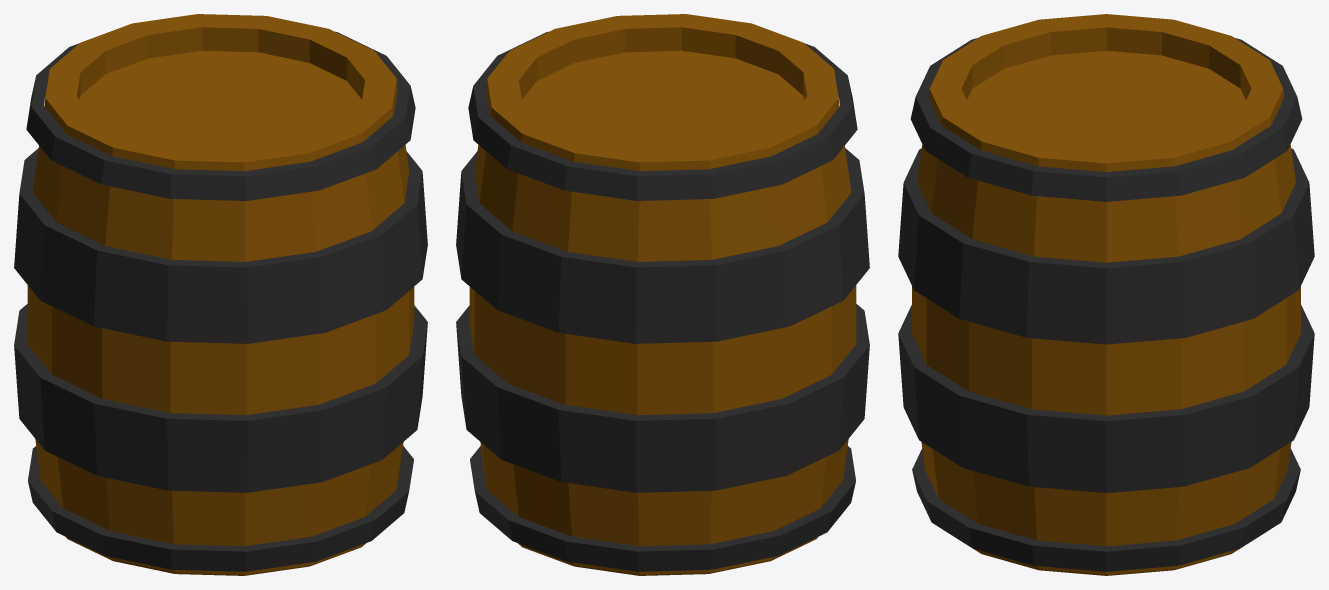
Rendered from barril.fbx.
The picture shows the model from 3 angles, left to right: view 1: azimuth 30°, elevation 25°; view 2: azimuth 150°, elevation 25°; view 3: azimuth 270°, elevation 25°; orthographic projection.
Parts seen in each view (by area): view 1: Cylinder.005; view 2: Cylinder.005; view 3: Cylinder.005.
Part boxes in pixels (<box>): Cylinder.005: <box>14,14,427,575</box>; Cylinder.005: <box>456,14,869,575</box>; Cylinder.005: <box>898,14,1314,575</box>.
Size of the model in its own units: 87.51 by 95.64 by 87.51.
